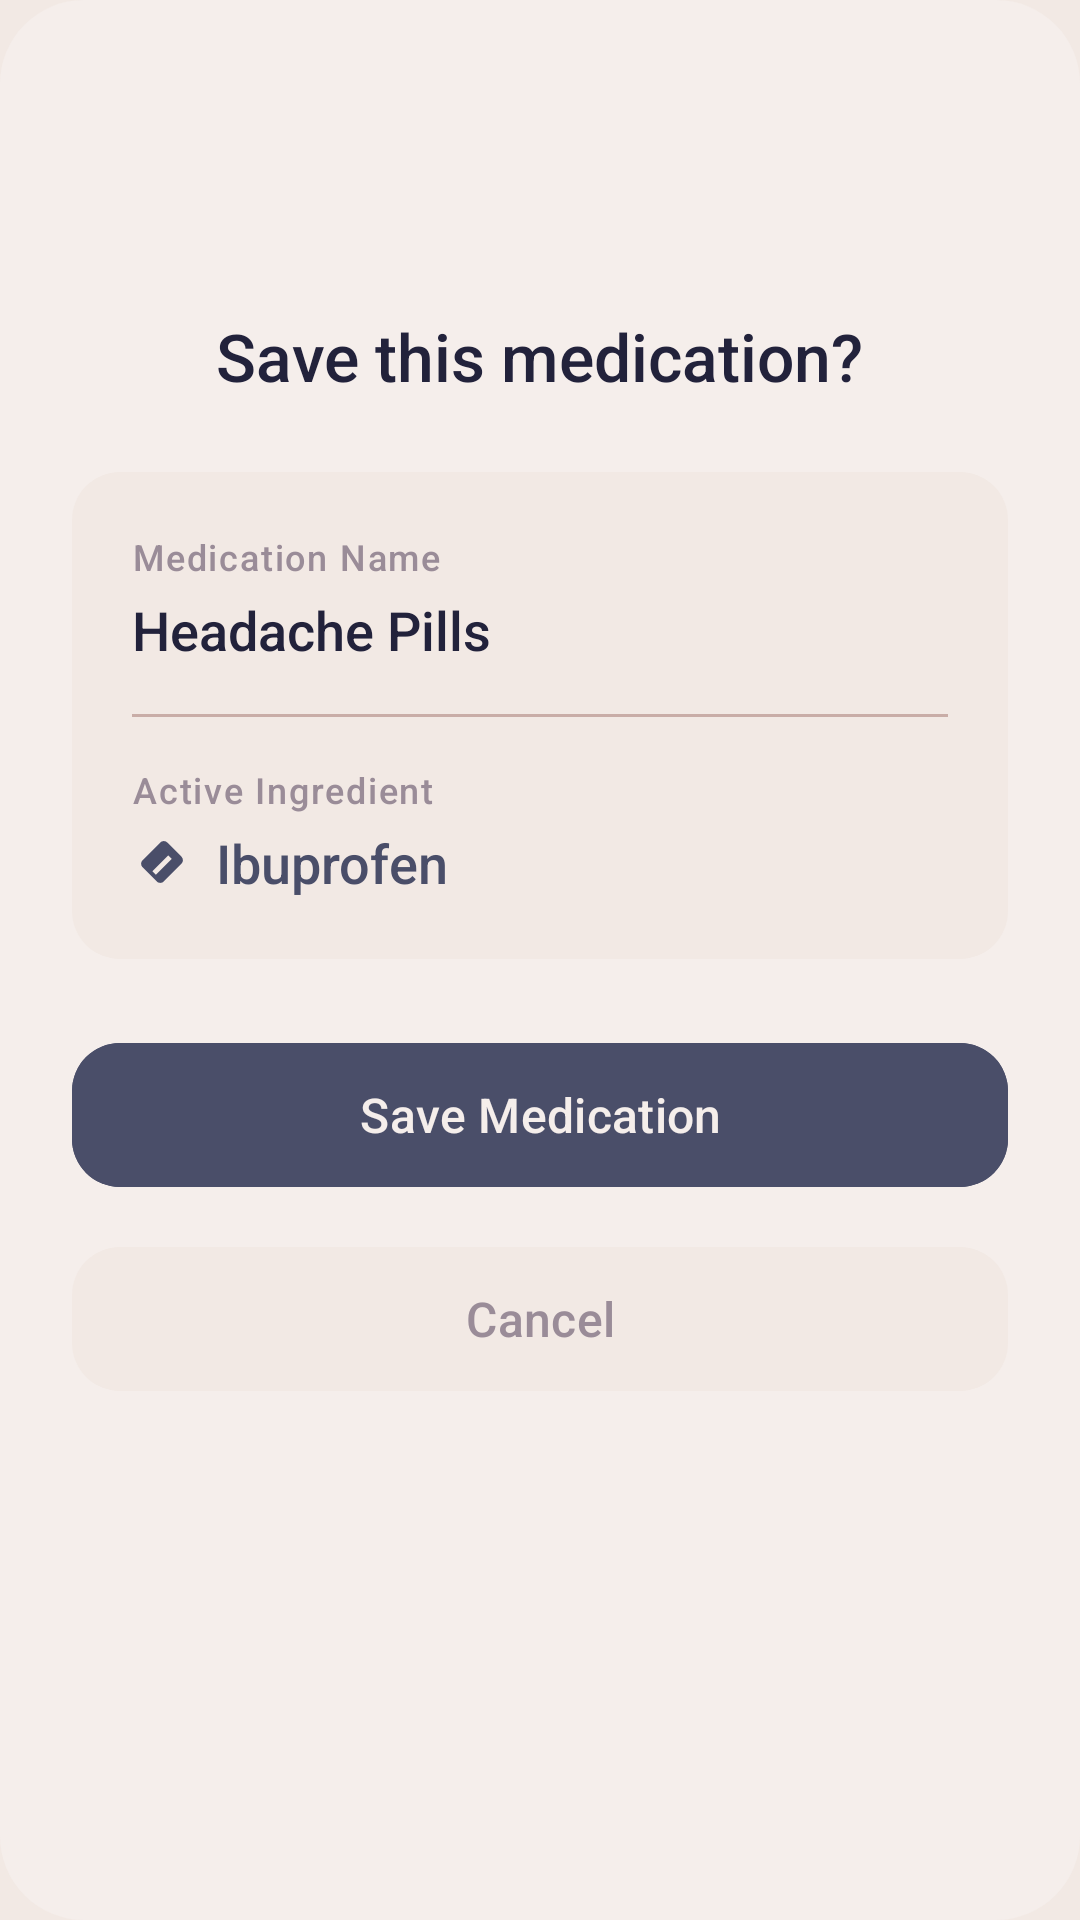

Point at icon controls on the screen. Image size 1080 x 1920, points as (x,y).
pill: (162,862)
